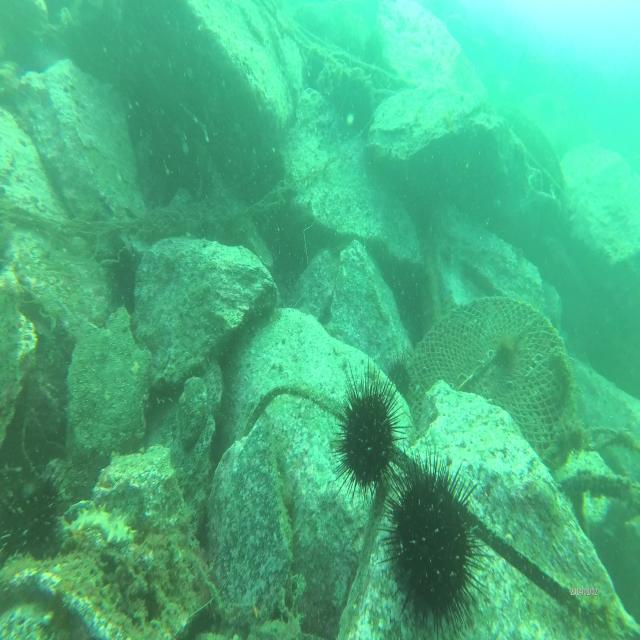echinus: (379, 453, 489, 640), (330, 361, 412, 502), (0, 457, 68, 569), (382, 342, 420, 413)
holothurian: (71, 499, 135, 555)
